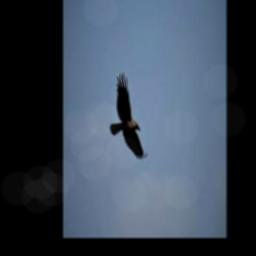Crow: (110, 73, 144, 159)
